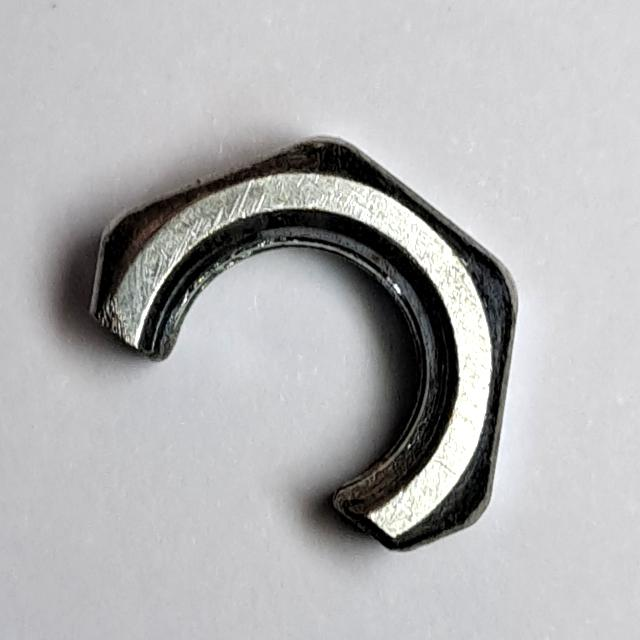Fracture: (79, 116, 532, 567)
